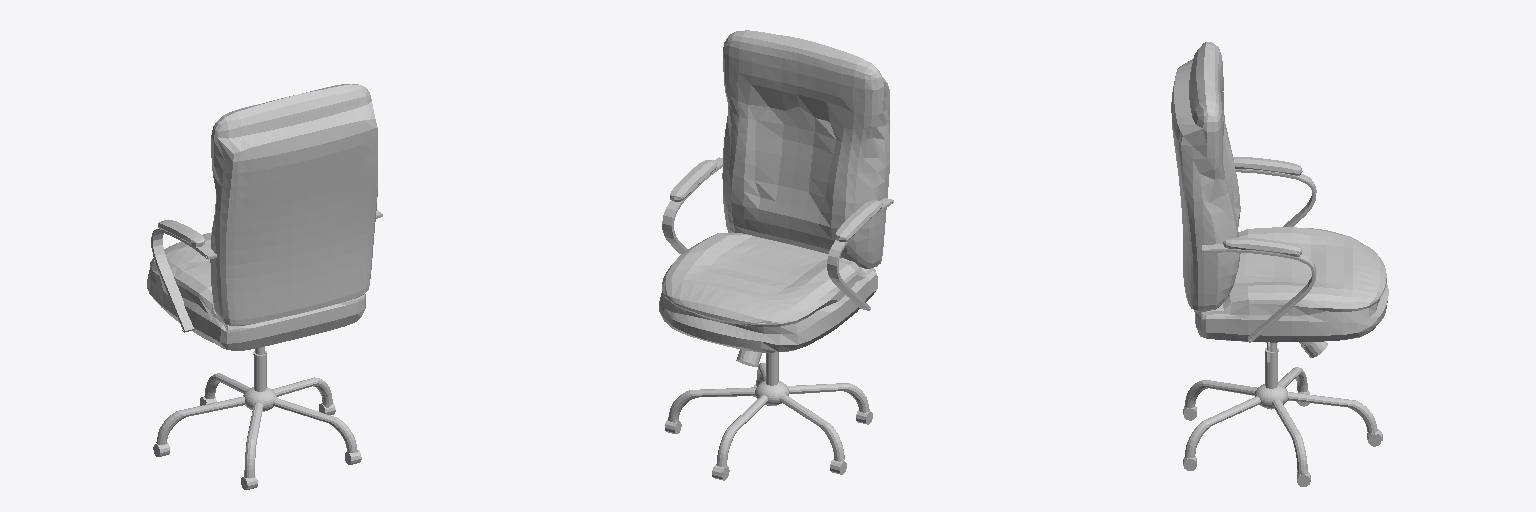
File: sillaNueva.obj
The picture shows the model from 3 angles: view 1: azimuth 30°, elevation 25°; view 2: azimuth 150°, elevation 25°; view 3: azimuth 270°, elevation 25°; orthographic projection.
Visible parts, largest first — view 1: chair.002_low, chair.003_low, chair.005_low.001, chair.015_low.004, chair.015_low.002, chair.015_low.003, chair.009_low.008, chair.015_low.001, chair.001_low.001, chair.013_low; view 2: chair.002_low, chair.003_low, chair.005_low.001, chair.015_low.001, chair.015_low.004, chair.015_low, chair.001_low.001, chair.015_low.003, chair.001_low, chair.005_low, chair.009_low.008; view 3: chair.003_low, chair.002_low, chair.005_low, chair.015_low, chair.001_low, chair.015_low.002, chair.001_low.001, chair.015_low.001, chair.015_low.003, chair.009_low.008, chair.005_low.001.
Boxes of the visible parts, x1,y1,x2,y2 form: chair.002_low: [210, 84, 377, 325]; chair.003_low: [147, 232, 365, 350]; chair.005_low.001: [151, 229, 216, 332]; chair.015_low.004: [156, 396, 244, 444]; chair.015_low.002: [273, 398, 357, 452]; chair.015_low.003: [244, 402, 263, 478]; chair.009_low.008: [153, 398, 361, 489]; chair.015_low.001: [272, 377, 332, 403]; chair.001_low.001: [158, 220, 204, 246]; chair.013_low: [253, 347, 266, 411]; chair.002_low: [722, 30, 889, 268]; chair.003_low: [659, 233, 877, 352]; chair.005_low.001: [827, 198, 893, 310]; chair.015_low.001: [668, 387, 756, 420]; chair.015_low.004: [780, 394, 844, 461]; chair.015_low: [716, 395, 767, 466]; chair.001_low.001: [835, 200, 882, 241]; chair.015_low.003: [787, 383, 869, 412]; chair.001_low: [670, 160, 716, 201]; chair.005_low: [662, 157, 722, 254]; chair.009_low.008: [665, 384, 872, 480]; chair.003_low: [1194, 227, 1388, 341]; chair.002_low: [1171, 42, 1240, 311]; chair.005_low: [1202, 244, 1316, 342]; chair.015_low: [1288, 392, 1377, 432]; chair.001_low: [1223, 237, 1302, 256]; chair.015_low.002: [1185, 396, 1260, 457]; chair.001_low.001: [1233, 157, 1302, 175]; chair.015_low.001: [1272, 399, 1307, 472]; chair.015_low.003: [1185, 380, 1256, 407]; chair.009_low.008: [1183, 391, 1381, 486]; chair.005_low.001: [1236, 169, 1316, 226].
Bounding box in the file's own units: 0.5916 × 1.18 × 0.6174.